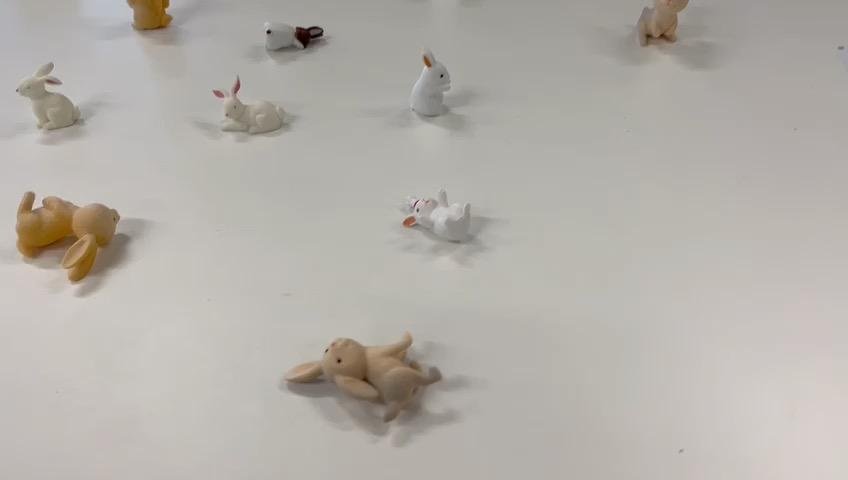pet: (279, 324, 451, 421), (3, 188, 126, 301), (17, 58, 93, 140), (212, 75, 300, 142), (399, 185, 477, 243), (402, 44, 459, 122), (631, 0, 709, 50), (256, 15, 333, 54)
